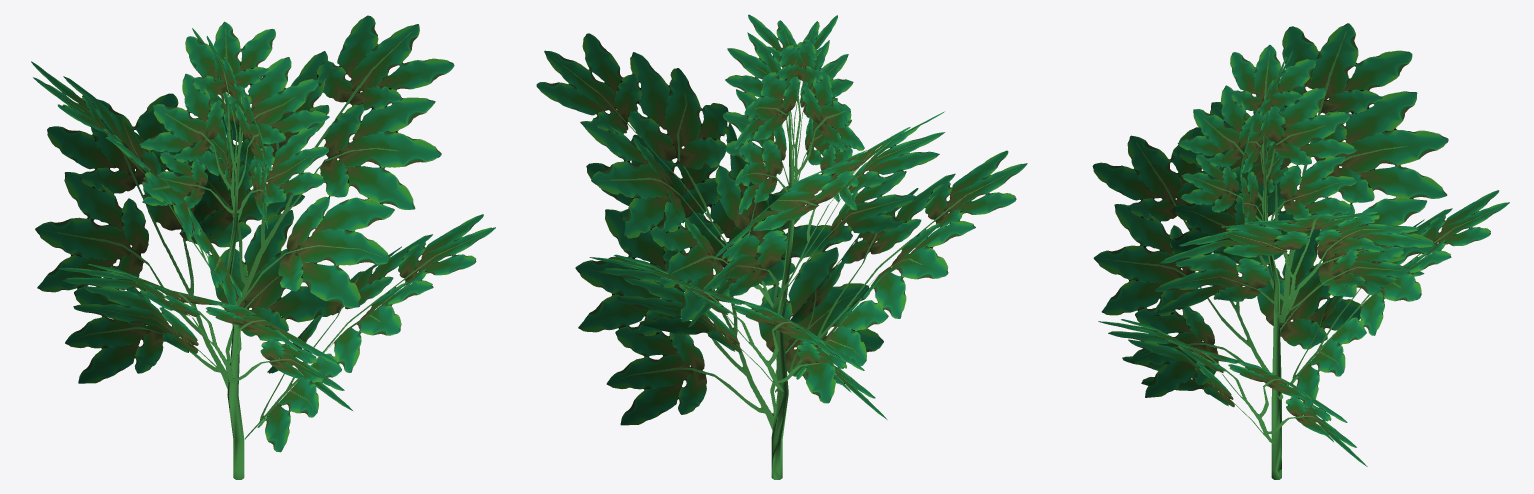
The model's file is Plant_05.fbx.
The picture shows the model from 3 angles, left to right: view 1: azimuth 30°, elevation 25°; view 2: azimuth 150°, elevation 25°; view 3: azimuth 270°, elevation 25°; orthographic projection. The views are drawn at different scales.
Visible parts, largest first — view 1: SM_Plant_01.001; view 2: SM_Plant_01.001; view 3: SM_Plant_01.001.
Part boxes in pixels (x1,y1,x2,y2): SM_Plant_01.001: (31, 15, 495, 479); SM_Plant_01.001: (536, 14, 1027, 479); SM_Plant_01.001: (1092, 23, 1509, 479).
Bounding box in the file's own units: 159 × 164 × 158.
